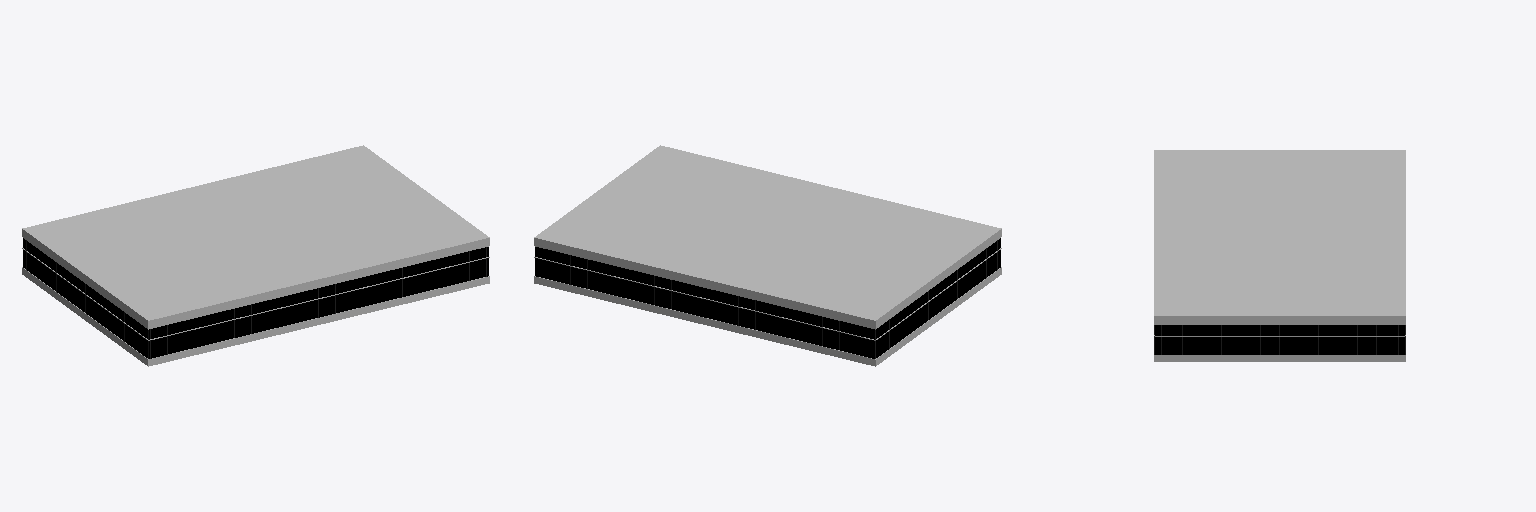
File: 13footEnvelopeStrip.obj
3 renders of one model, left to right at view 1: azimuth 30°, elevation 25°; view 2: azimuth 150°, elevation 25°; view 3: azimuth 270°, elevation 25°, orthographic.
Parts seen in each view (by area): view 1: Layer_5, Layer_1, Layer_2; view 2: Layer_5, Layer_4, Layer_2; view 3: Layer_5, Layer_3.
Part boxes in pixels (bbox=[...]): Layer_5: bbox=[22, 145, 489, 320]; Layer_1: bbox=[148, 237, 489, 366]; Layer_2: bbox=[23, 230, 147, 365]; Layer_5: bbox=[534, 145, 1001, 320]; Layer_4: bbox=[534, 238, 875, 366]; Layer_2: bbox=[875, 230, 1000, 365]; Layer_5: bbox=[1154, 150, 1405, 316]; Layer_3: bbox=[1154, 316, 1404, 361].
Size of the model in its own units: 38.1 by 4.88 by 24.38.